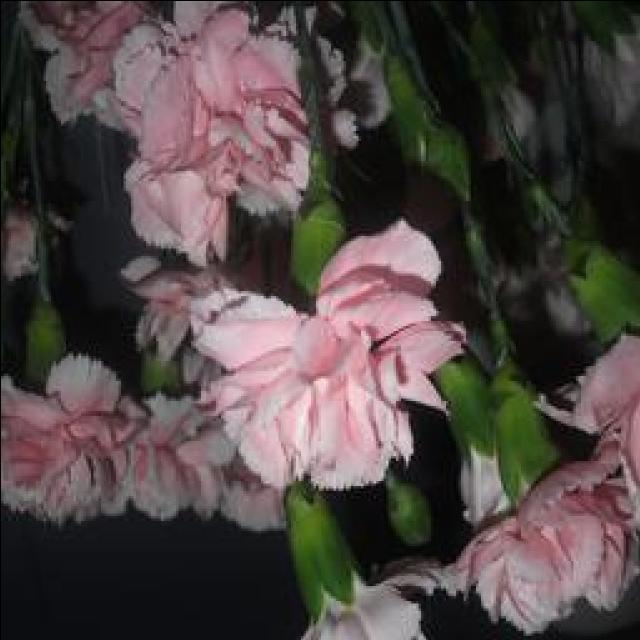carnation: (156, 224, 482, 532)
